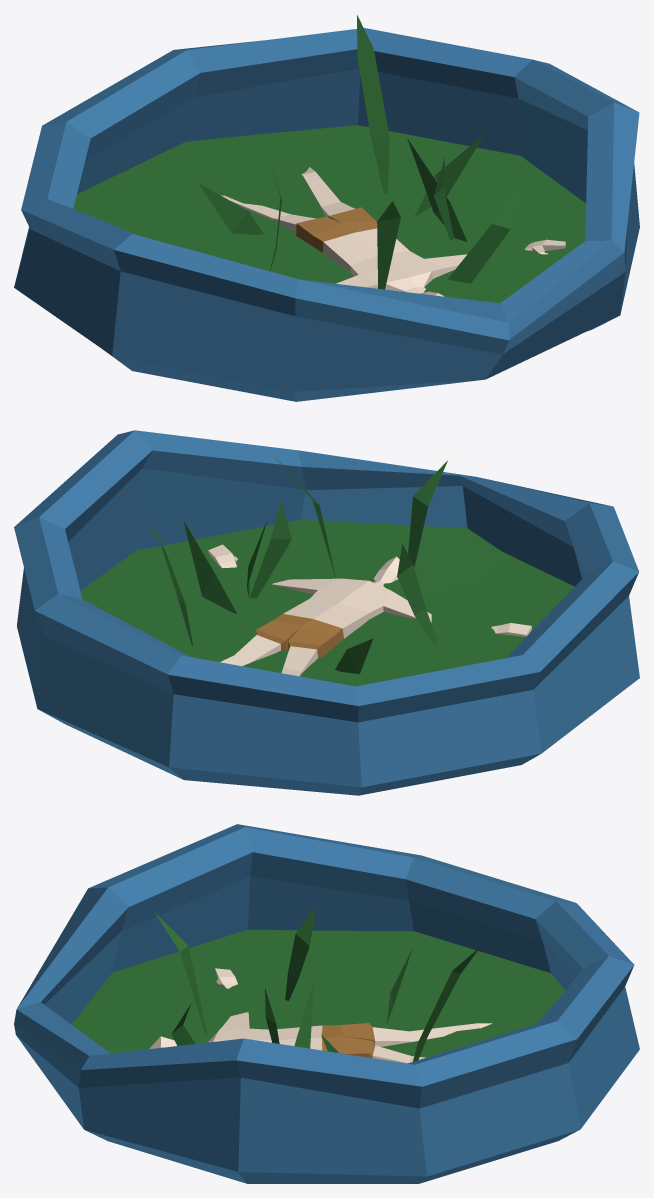
File: apocalypse_pool-inflatable-apocalypse.fbx
The picture shows the model from 3 angles, top to bottom: view 1: azimuth 30°, elevation 25°; view 2: azimuth 150°, elevation 25°; view 3: azimuth 270°, elevation 25°; orthographic projection. The views are drawn at different scales.
Parts seen in each view (by area): view 1: pool_inflatable_apocalypse_pool_inflatable_apocalypse_base, pool_inflatable_apocalypse_pool_inflatable_apocalypse_body; view 2: pool_inflatable_apocalypse_pool_inflatable_apocalypse_base, pool_inflatable_apocalypse_pool_inflatable_apocalypse_body; view 3: pool_inflatable_apocalypse_pool_inflatable_apocalypse_base, pool_inflatable_apocalypse_pool_inflatable_apocalypse_body.
Boxes of the visible parts, <box> form: pool_inflatable_apocalypse_pool_inflatable_apocalypse_base: <box>14,15,639,401</box>; pool_inflatable_apocalypse_pool_inflatable_apocalypse_body: <box>221,167,565,296</box>; pool_inflatable_apocalypse_pool_inflatable_apocalypse_base: <box>14,430,639,795</box>; pool_inflatable_apocalypse_pool_inflatable_apocalypse_body: <box>208,544,531,676</box>; pool_inflatable_apocalypse_pool_inflatable_apocalypse_base: <box>14,824,639,1183</box>; pool_inflatable_apocalypse_pool_inflatable_apocalypse_body: <box>149,968,492,1063</box>.
Size of the model in its own units: 189 by 61.87 by 200.
